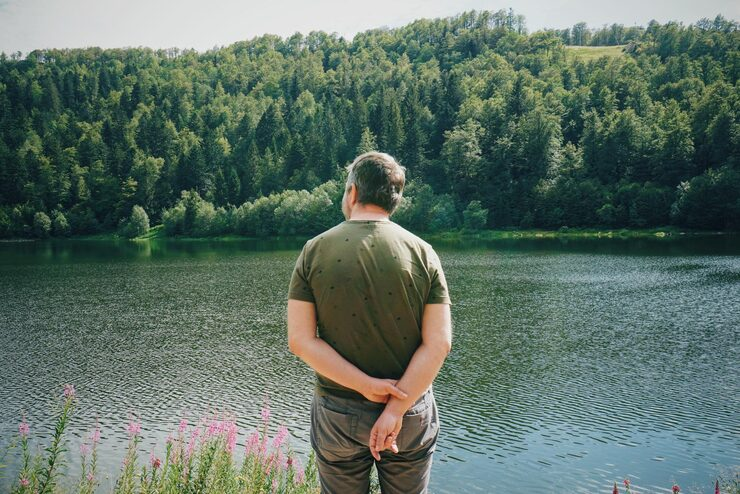person: (268, 158, 459, 494)
